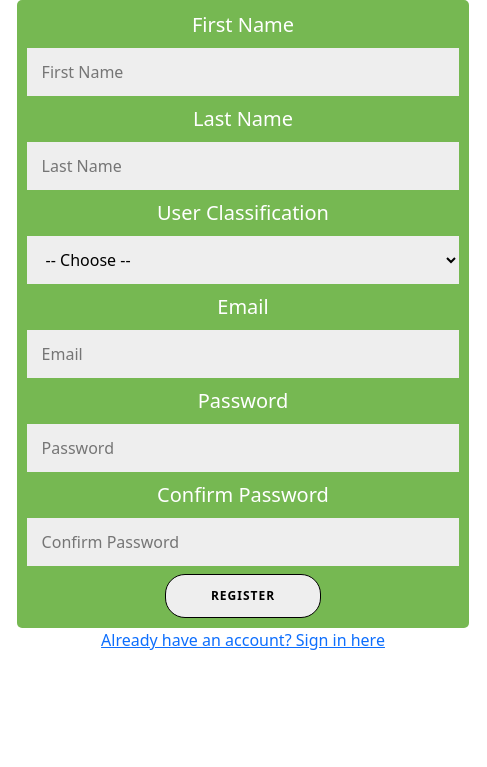
Scenario: should show error message when last name is the incorrect format
Type "Name1" into the field named "last-name". click: [243, 166]
box: [27,142,459,190]
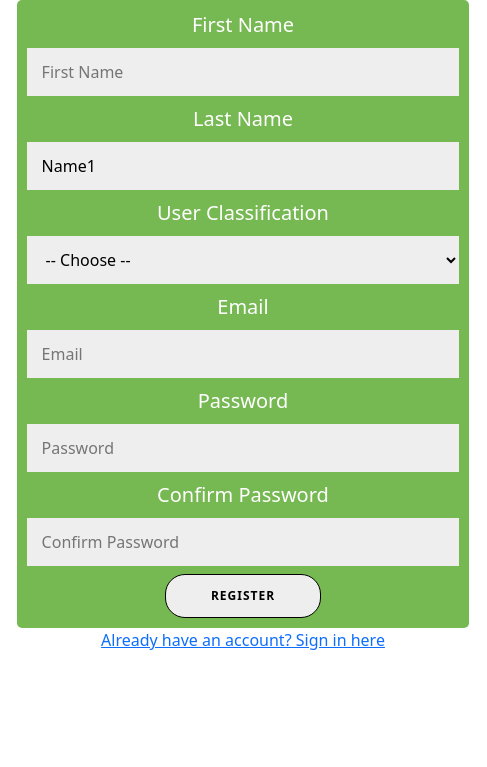
Click the button. click: [243, 596]
box: [165,574,321,618]
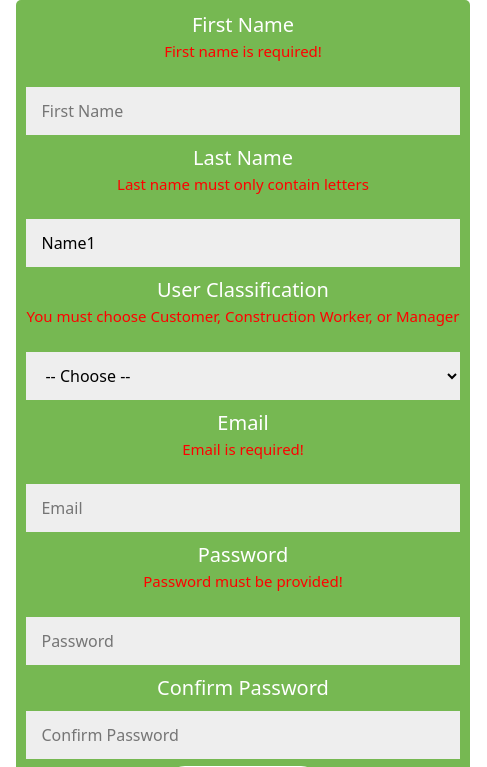
Check: the text named "last-name-error" is shown, box [117,174,369,194]
